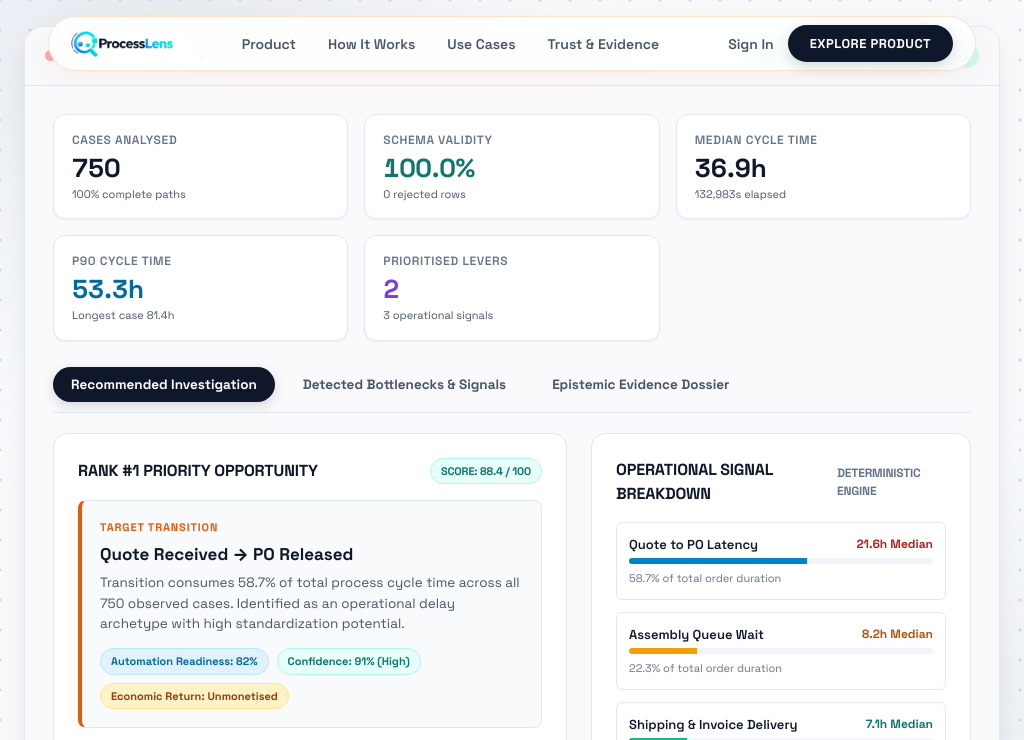
Test case: Phase 11.10: ProcessLens Premium Marketing Landing Page › 3. Renders Interactive Product Preview with honest KPI metrics and tab switching
The image size is (1024, 740).
(page scrolled)
expect the text "750" is shown: met, box x1=72 y1=151 x2=120 y2=185
expect the text "100.0%" is shown: met, box x1=383 y1=151 x2=475 y2=185
Note: Switch to Detected Bottlenecks Tab
Click the tab "Detected Bottlenecks & Signals" at [404, 384], box x1=285 y1=367 x2=524 y2=402
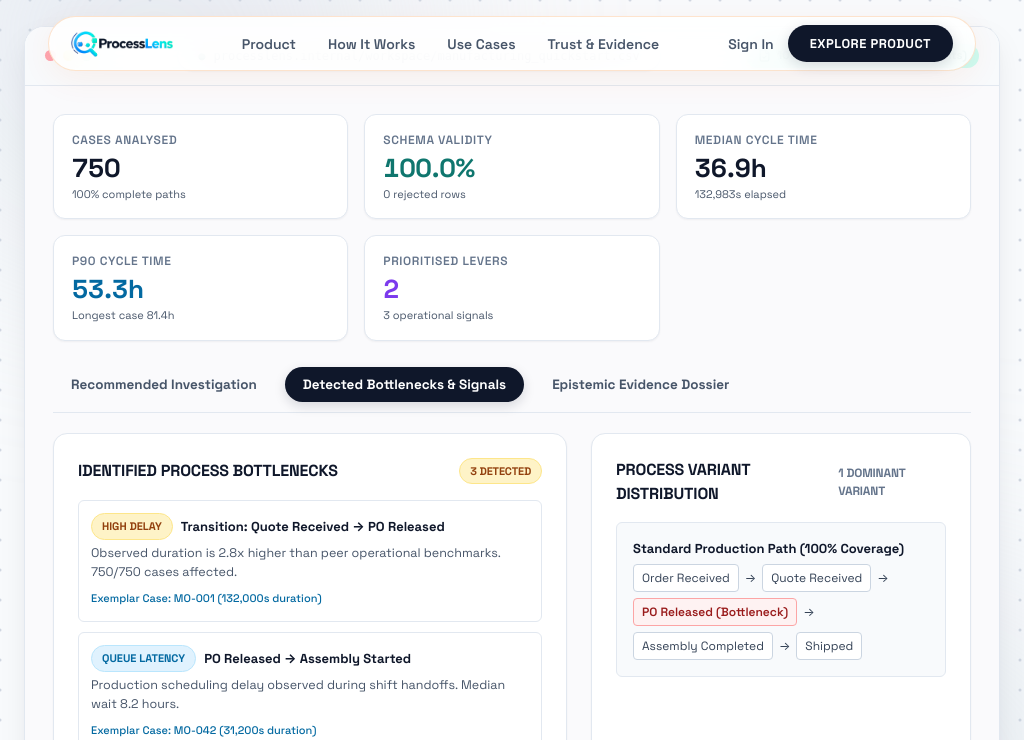
expect the text "Identified Process Bottlenecks" is shown: met, box x1=78 y1=459 x2=338 y2=483
expect the text "Standard Production Path (100% Coverage)" is shown: met, box x1=633 y1=539 x2=929 y2=558
Note: Switch to Evidence Dossier Tab
Click the tab "Epistemic Evidence Dossier" at [641, 384], box x1=534 y1=367 x2=747 y2=402
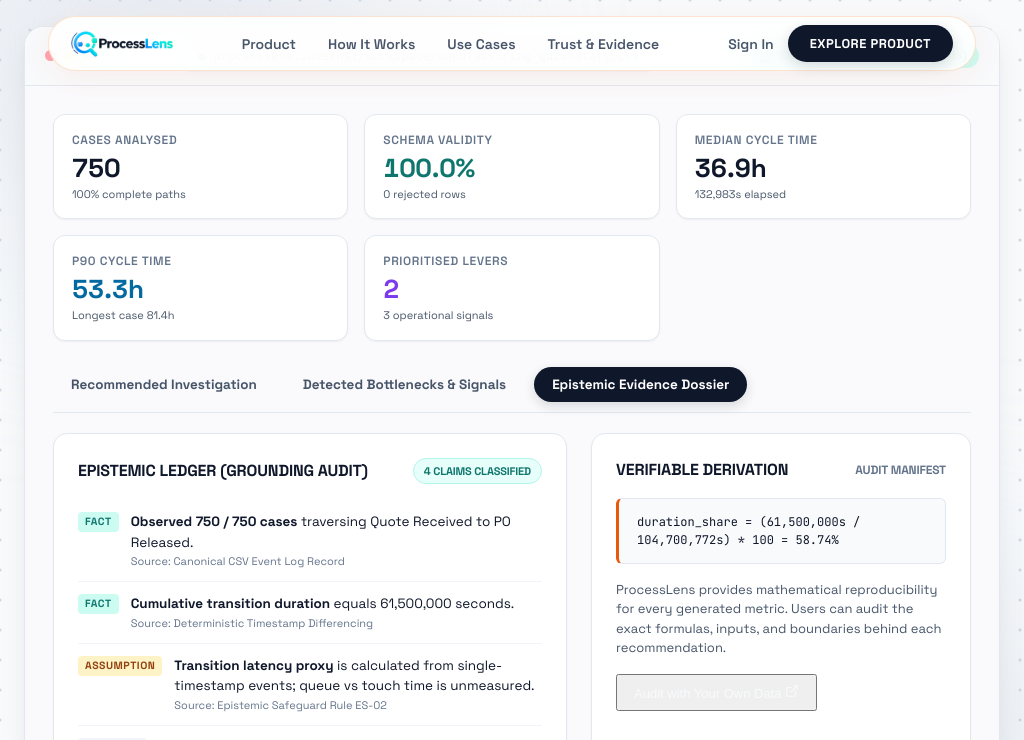
expect the text "Epistemic Ledger (Grounding Audit)" is shown: met, box x1=78 y1=459 x2=368 y2=483
expect the text "Verifiable Derivation" is shown: met, box x1=616 y1=458 x2=788 y2=482
